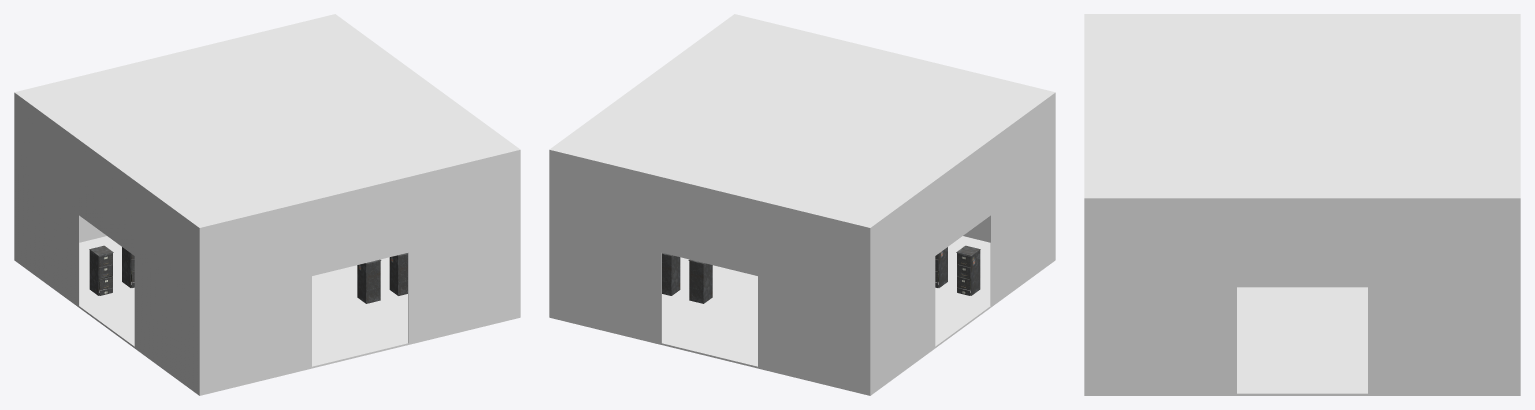
The model's file is Level1_Room2.glb.
The picture shows the model from 3 angles, left to right: view 1: azimuth 30°, elevation 25°; view 2: azimuth 150°, elevation 25°; view 3: azimuth 270°, elevation 25°; orthographic projection. The views are drawn at different scales.
Visible parts, largest first — view 1: Cube copy copy copy (×3), Cube copy copy (×3), Cube copy, Cube, FileCab_01_body (×3); view 2: Cube copy copy copy (×2), Cube copy copy copy copy (×2), Cube copy copy (×2), Cube, Cube copy, FileCab_01_body (×3); view 3: Cube copy copy copy (×3), Cube copy copy, Cube.
Boxes of the visible parts, x1,y1,x2,y2 form: Cube copy copy copy (×3): (15,14,520,395); Cube copy copy (×3): (14,93,520,395); Cube copy: (14,92,199,303); Cube: (14,236,408,395); FileCab_01_body (×3): (89,245,407,303); Cube copy copy copy (×2): (549,14,1054,303); Cube copy copy copy copy (×2): (549,150,870,395); Cube copy copy (×2): (870,93,1055,394); Cube: (661,236,1055,395); Cube copy: (870,92,1055,303); FileCab_01_body (×3): (662,245,980,303); Cube copy copy copy (×3): (1084,14,1520,395); Cube copy copy: (1084,198,1520,287); Cube: (1237,287,1367,395).
Size of what is drawn, in the model's own units: 10 by 5.15 by 10.01.
15 materials, 1 textured.
